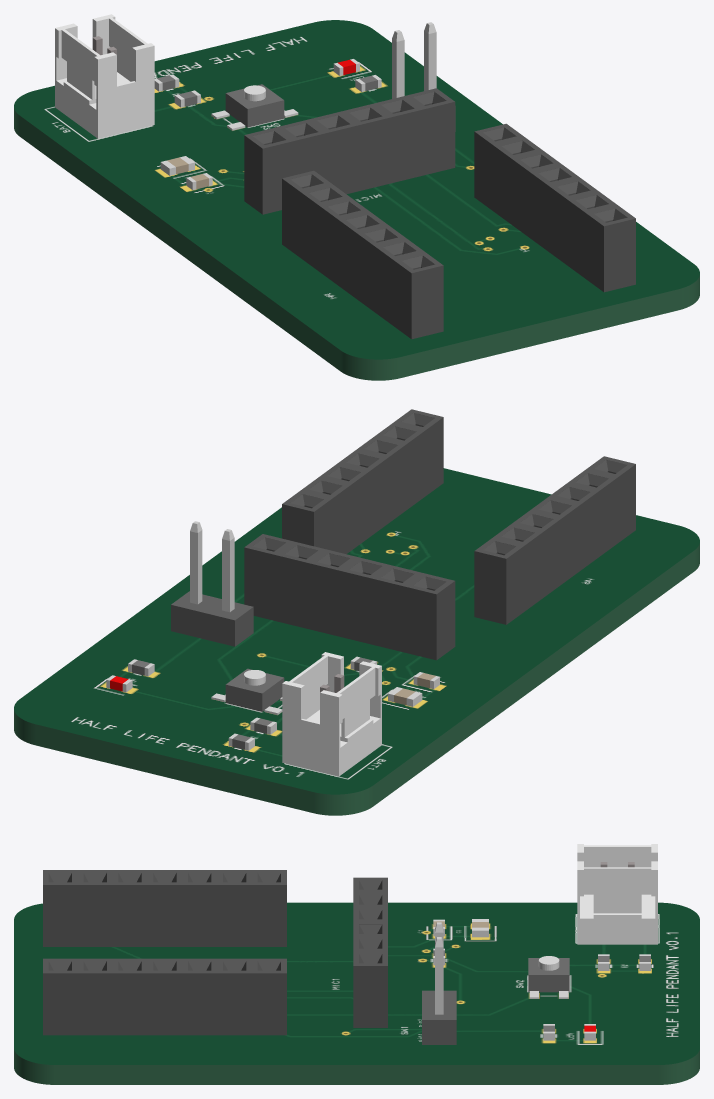
File: half-life-pendant-pcb-3d.glb
3 renders of one model, top to bottom at view 1: azimuth 30°, elevation 25°; view 2: azimuth 150°, elevation 25°; view 3: azimuth 270°, elevation 25°, orthographic. The views are drawn at different scales.
Parts seen in each view (by area): view 1: Box0, MIC1, HL, HR, BAT1, SW2, SW1; view 2: Box0, MIC1, HR, HL, BAT1, SW1, SW2; view 3: Box0, HL, HR, BAT1, MIC1, SW1, SW2.
Boxes of the visible parts, box(x1,y1,x2,y2) form: Box0: box(14, 20, 699, 380); MIC1: box(244, 88, 455, 214); HL: box(474, 123, 635, 292); HR: box(282, 170, 443, 339); BAT1: box(55, 14, 154, 138); SW2: box(211, 84, 298, 130); SW1: box(392, 22, 455, 131); Box0: box(14, 468, 699, 815); MIC1: box(244, 534, 455, 660); HR: box(474, 456, 635, 624); HL: box(282, 409, 443, 554); BAT1: box(282, 652, 381, 776); SW1: box(171, 521, 253, 646); SW2: box(211, 668, 284, 714); Box0: box(14, 902, 699, 1084); HL: box(43, 958, 286, 1035); HR: box(43, 870, 286, 946); BAT1: box(577, 844, 657, 944); MIC1: box(353, 877, 387, 1027); SW1: box(422, 922, 456, 1044); SW2: box(528, 956, 569, 998).
Bounding box in the file's own units: 28 × 11.4 × 50.
17 materials, 2 textured.
